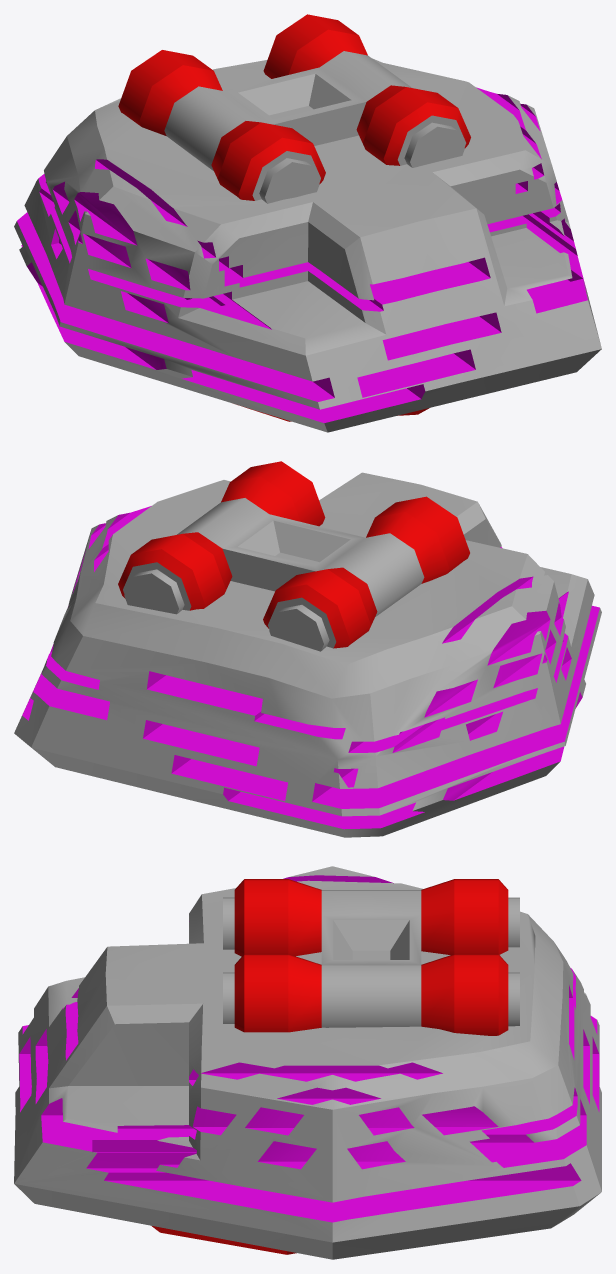
Rendered from Enemy_TurretBody_Glitch.fbx.
The picture shows the model from 3 angles, top to bottom: view 1: azimuth 30°, elevation 25°; view 2: azimuth 150°, elevation 25°; view 3: azimuth 270°, elevation 25°; orthographic projection. The views are drawn at different scales.
Parts seen in each view (by area): view 1: Enemy_Turret_Double_Body5; view 2: Enemy_Turret_Double_Body5; view 3: Enemy_Turret_Double_Body5.
Boxes of the visible parts, x1,y1,x2,y2 form: Enemy_Turret_Double_Body5: (14,14,601,432); Enemy_Turret_Double_Body5: (14,461,601,837); Enemy_Turret_Double_Body5: (14,866,601,1259).
Size of the model in its own units: 4.95 by 2.31 by 4.71.
